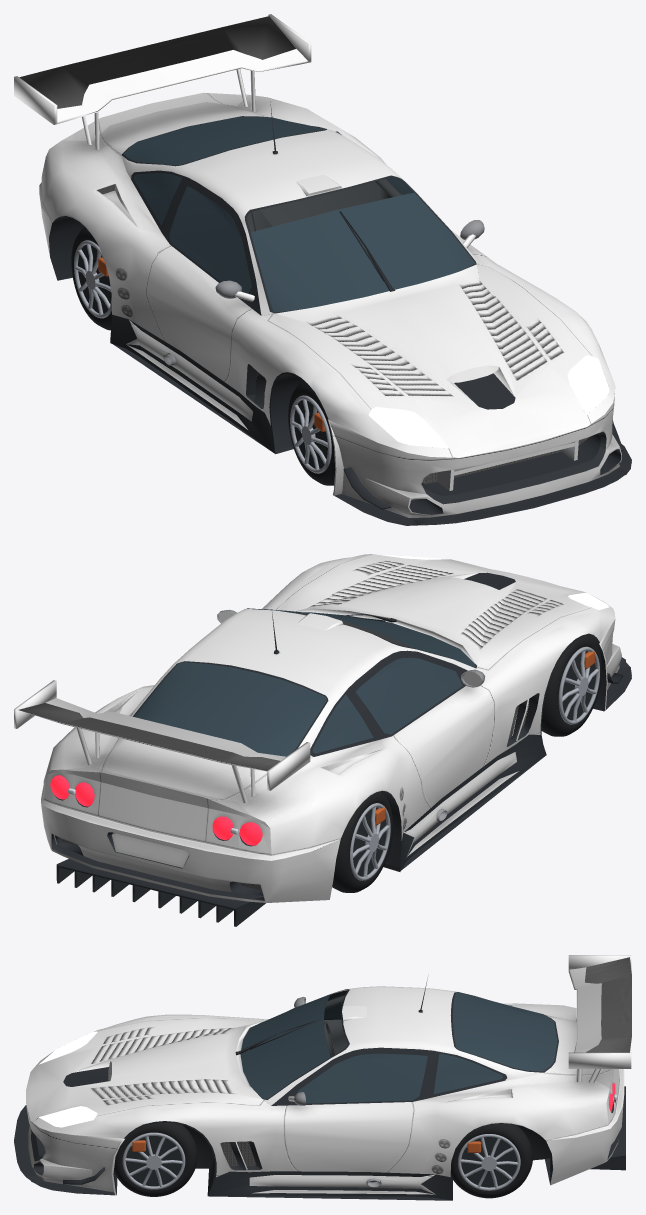
File: cavallo-575.glb
3 renders of one model, top to bottom at view 1: azimuth 30°, elevation 25°; view 2: azimuth 150°, elevation 25°; view 3: azimuth 270°, elevation 25°, orthographic. The views are drawn at different scales.
Parts seen in each view (by area): view 1: BODY, WI, wing, BODY_hood, BODYm, fbmp, rubber_wi, sideskirt2, headlights_case, wh1, f_airdam_big, sideskirt1 (+16 smaller); view 2: BODY, WI, BODYm, rbmp, wing, BODY_hood, rear, rubber_wi, sideskirt2, sideskirt1, BODYr, r_splitter_p2 (+19 smaller); view 3: BODY, WI, BODYm, wing, BODY_hood, sideskirt2, fbmp, rubber_wi, sideskirt1, rbmp, Slick tire.001, Slick tire.003 (+16 smaller).
Boxes of the visible parts, box(x1,y1,x2,y2) form: BODY: box(41, 95, 615, 457); WI: box(123, 116, 475, 312); wing: box(14, 14, 311, 149); BODY_hood: box(275, 264, 515, 405); BODYm: box(121, 129, 479, 315); fbmp: box(327, 393, 621, 517); rubber_wi: box(122, 116, 476, 315); sideskirt2: box(110, 314, 274, 452); headlights_case: box(368, 355, 609, 448); wh1: box(49, 216, 302, 453); f_airdam_big: box(422, 433, 600, 496); sideskirt1: box(126, 320, 252, 429); BODY: box(43, 554, 615, 855); WI: box(134, 609, 475, 756); BODYm: box(130, 608, 478, 758); rbmp: box(41, 803, 340, 902); wing: box(14, 680, 310, 803); BODY_hood: box(295, 573, 515, 665); rear: box(43, 773, 271, 855); rubber_wi: box(133, 608, 476, 756); sideskirt2: box(400, 734, 545, 871); sideskirt1: box(403, 752, 518, 857); BODYr: box(52, 835, 265, 902); r_splitter_p2: box(56, 859, 249, 926); BODY: box(26, 1003, 609, 1177); WI: box(240, 992, 557, 1103); BODYm: box(263, 986, 543, 1105); wing: box(568, 955, 631, 1082); BODY_hood: box(74, 1023, 262, 1099); sideskirt2: box(209, 1171, 452, 1200); fbmp: box(26, 1105, 124, 1195); rubber_wi: box(253, 989, 558, 1105); sideskirt1: box(249, 1174, 435, 1194); rbmp: box(546, 1098, 623, 1185); Slick tire.001: box(114, 1122, 197, 1196); Slick tire.003: box(450, 1123, 532, 1198).
Bounding box in the file's own units: 2.03 × 1.51 × 4.76.
Materials: 12 (1 with a texture image).
